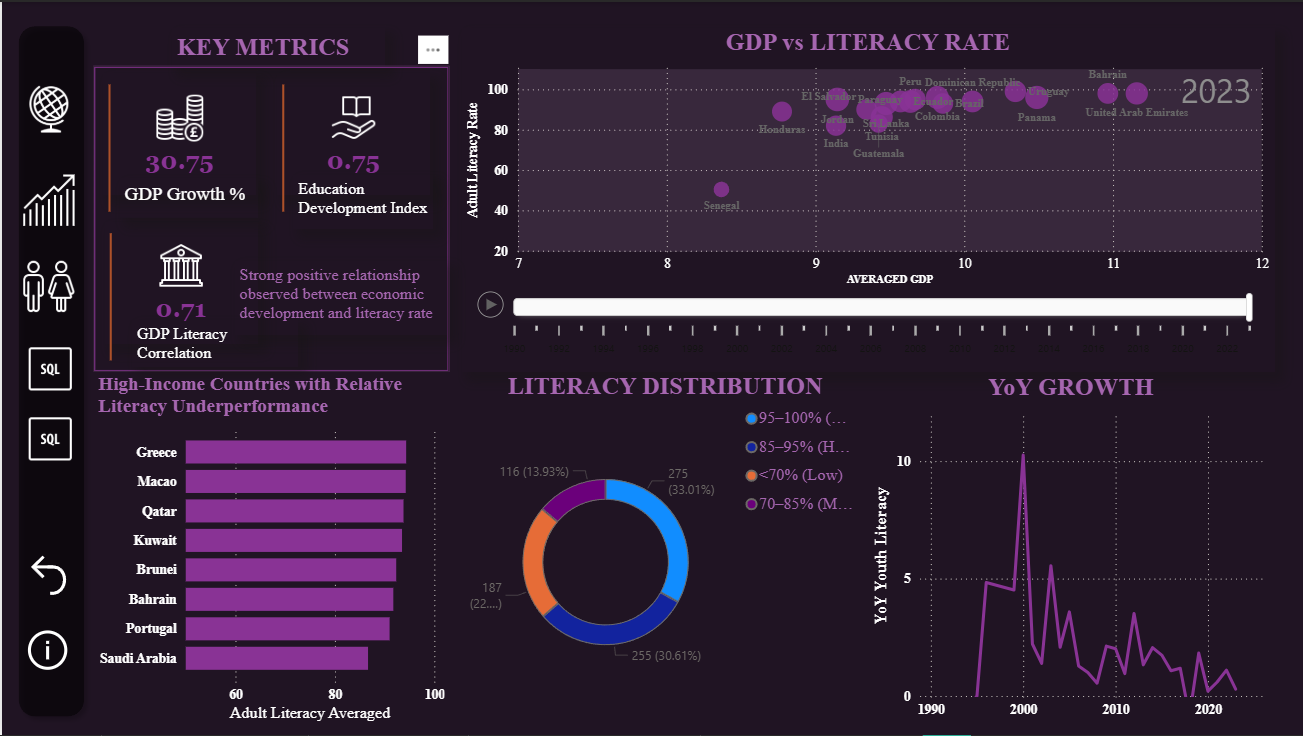

Layout of this report page (visuals, bound fields, positions):
{"tool":"powerbi","page":{"name":"Economic vs Education","canvas":[1280,720],"ordinal":1},"visuals":[{"type":"shape","box":[7.4,14.7,82.2,695.7],"z":0},{"type":"image","box":[20.9,79.8,50,50],"z":1000},{"type":"image","box":[20.9,254,50.3,50.3],"z":2000},{"type":"image","box":[20.9,169.3,50.3,50.3],"z":3000},{"type":"actionButton","box":[19.6,611,50.3,50.3],"z":4000},{"type":"actionButton","box":[20.9,537.4,50.3,50.3],"z":5000},{"type":"textbox","box":[166.9,25.8,208.6,39.3],"z":6000},{"type":"shape","box":[89.6,62.6,349.7,300.6],"z":7000},{"type":"cardVisual","title":"Global Literacy Rate","fields":{"Data":["Literacy Data.GDP Growth %"]},"box":[99.6,69.9,150,120],"z":8000},{"type":"textbox","box":[115.3,173,136.2,39.3],"z":9000},{"type":"shape","box":[101.8,81,7.4,125],"z":10000},{"type":"cardVisual","title":"Global Literacy Rate","fields":{"Data":["Literacy Data.GDP Literacy Correlation"]},"box":[100.9,216,150,120],"z":11000},{"type":"textbox","box":[127.6,311.5,163.3,46.7],"z":12000},{"type":"shape","box":[103.1,227.1,7.4,125],"z":13000},{"type":"cardVisual","title":"Global Literacy Rate","fields":{"Data":["Literacy Data.Education Development Index"]},"box":[270.3,69.8,150,120],"z":14000},{"type":"textbox","box":[285.4,168.8,137.2,53.5],"z":15000},{"type":"shape","box":[272.5,80.9,7.4,125],"z":16000},{"type":"textbox","box":[227.8,253.9,208.6,72.7],"z":17000},{"type":"scatterChart","title":"GDP vs LITERACY RATE","fields":{"Y":["Avg(Literacy Data.adult_literacy_rate)"],"Size":["Avg(Literacy Data.avg_schooling_years)"],"Category":["Literacy Data.country"],"X":["Avg(Literacy Data.log_gdp)"],"Play":["Literacy Data.year"]},"box":[451.5,26.1,797.3,337.6],"z":18000},{"type":"clusteredBarChart","title":"High-Income Countries with Relative Literacy Underperformance","fields":{"Category":["Literacy Data.country"],"Y":["Avg(Literacy Data.adult_literacy_rate)"]},"box":[90,364,350,347],"z":19000},{"type":"donutChart","title":"LITERACY DISTRIBUTION","fields":{"Category":["Illiteracy Data.Literacy Level Group"],"Y":["CountNonNull(Illiteracy Data.country)"]},"box":[451.5,363.6,399.3,347.2],"z":20000},{"type":"lineChart","title":"YoY GROWTH","fields":{"Category":["Literacy Data.year"],"Y":["Avg(Literacy Data.youth_literacy_yoy)"]},"box":[850,364,398,347],"z":21000},{"type":"image","box":[22.1,335,50.3,50.3],"z":21001},{"type":"image","box":[22.1,403.7,50.3,50.3],"z":21002}]}

Visuals, with their boxes on the page's 1280x720 design canvas (x1, y1, x2, y2). These are canvas units, not pixel positions in the 1303x736 screenshot, which may show the page scaled, cropped or inside an application window:
shape: {"left": 7, "top": 15, "right": 90, "bottom": 710}
image: {"left": 21, "top": 80, "right": 71, "bottom": 130}
image: {"left": 21, "top": 254, "right": 71, "bottom": 304}
image: {"left": 21, "top": 169, "right": 71, "bottom": 220}
actionButton: {"left": 20, "top": 611, "right": 70, "bottom": 661}
actionButton: {"left": 21, "top": 537, "right": 71, "bottom": 588}
textbox: {"left": 167, "top": 26, "right": 376, "bottom": 65}
shape: {"left": 90, "top": 63, "right": 439, "bottom": 363}
"Global Literacy Rate" cardVisual: {"left": 100, "top": 70, "right": 250, "bottom": 190}
textbox: {"left": 115, "top": 173, "right": 252, "bottom": 212}
shape: {"left": 102, "top": 81, "right": 109, "bottom": 206}
"Global Literacy Rate" cardVisual: {"left": 101, "top": 216, "right": 251, "bottom": 336}
textbox: {"left": 128, "top": 312, "right": 291, "bottom": 358}
shape: {"left": 103, "top": 227, "right": 110, "bottom": 352}
"Global Literacy Rate" cardVisual: {"left": 270, "top": 70, "right": 420, "bottom": 190}
textbox: {"left": 285, "top": 169, "right": 423, "bottom": 222}
shape: {"left": 272, "top": 81, "right": 280, "bottom": 206}
textbox: {"left": 228, "top": 254, "right": 436, "bottom": 327}
"GDP vs LITERACY RATE" scatterChart: {"left": 452, "top": 26, "right": 1249, "bottom": 364}
"High-Income Countries with Relative Literacy Underperformance" clusteredBarChart: {"left": 90, "top": 364, "right": 440, "bottom": 711}
"LITERACY DISTRIBUTION" donutChart: {"left": 452, "top": 364, "right": 851, "bottom": 711}
"YoY GROWTH" lineChart: {"left": 850, "top": 364, "right": 1248, "bottom": 711}
image: {"left": 22, "top": 335, "right": 72, "bottom": 385}
image: {"left": 22, "top": 404, "right": 72, "bottom": 454}
